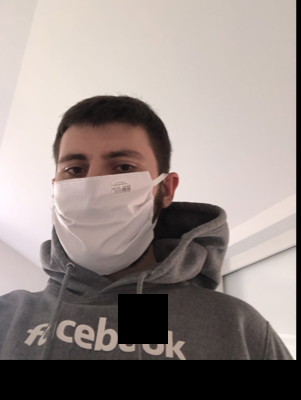with_mask: (53, 141, 160, 275)
